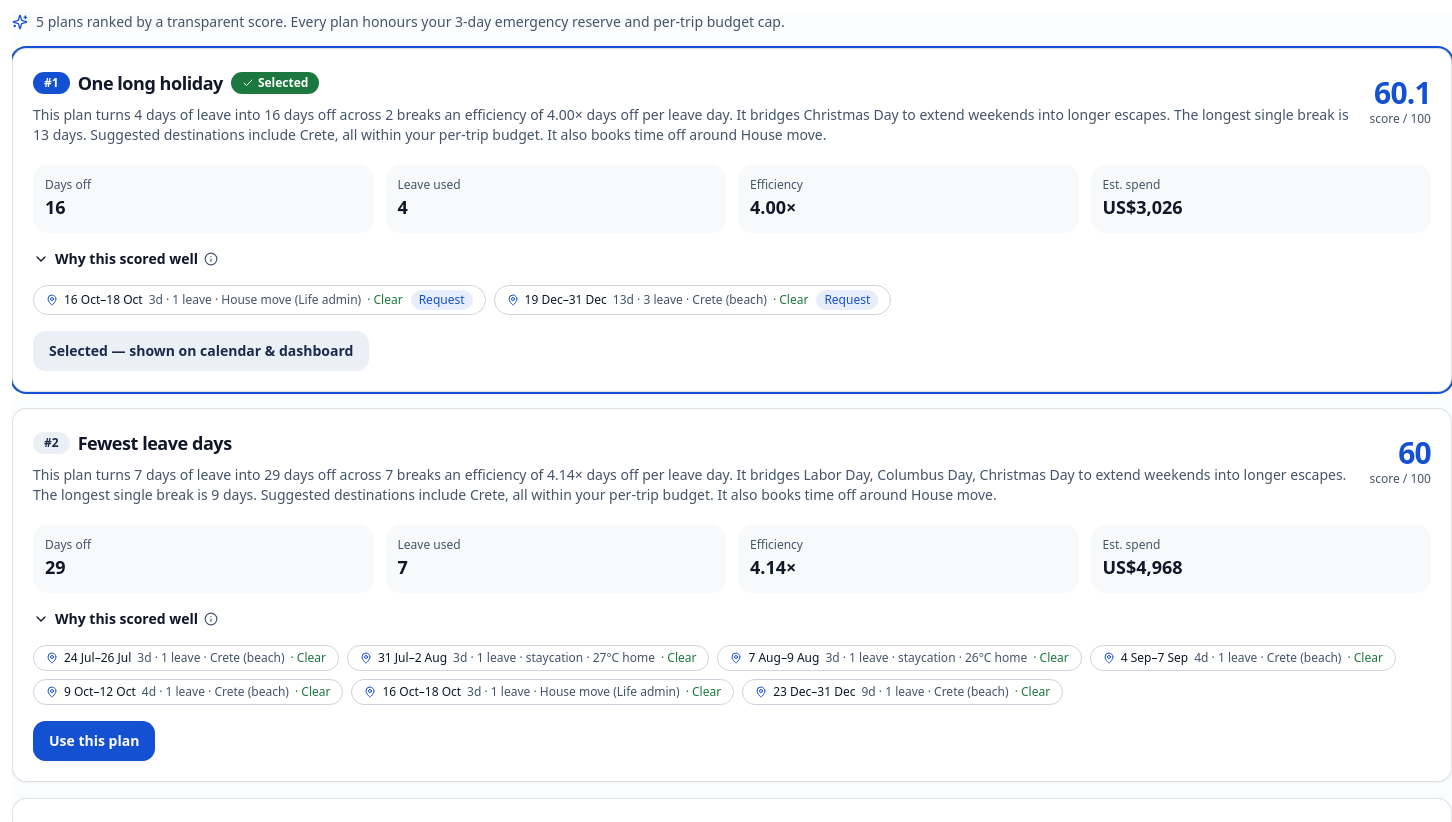
PlansView › lets the user select a different plan
Expected: the number of buttons "Selected — shown on calendar & dashboard" is 1, [33,331,369,371]
What coordinates should you click on to do the following:
click the button "Use this plan"
I would click on:
 (94, 741)
Its box is [33,721,155,761].
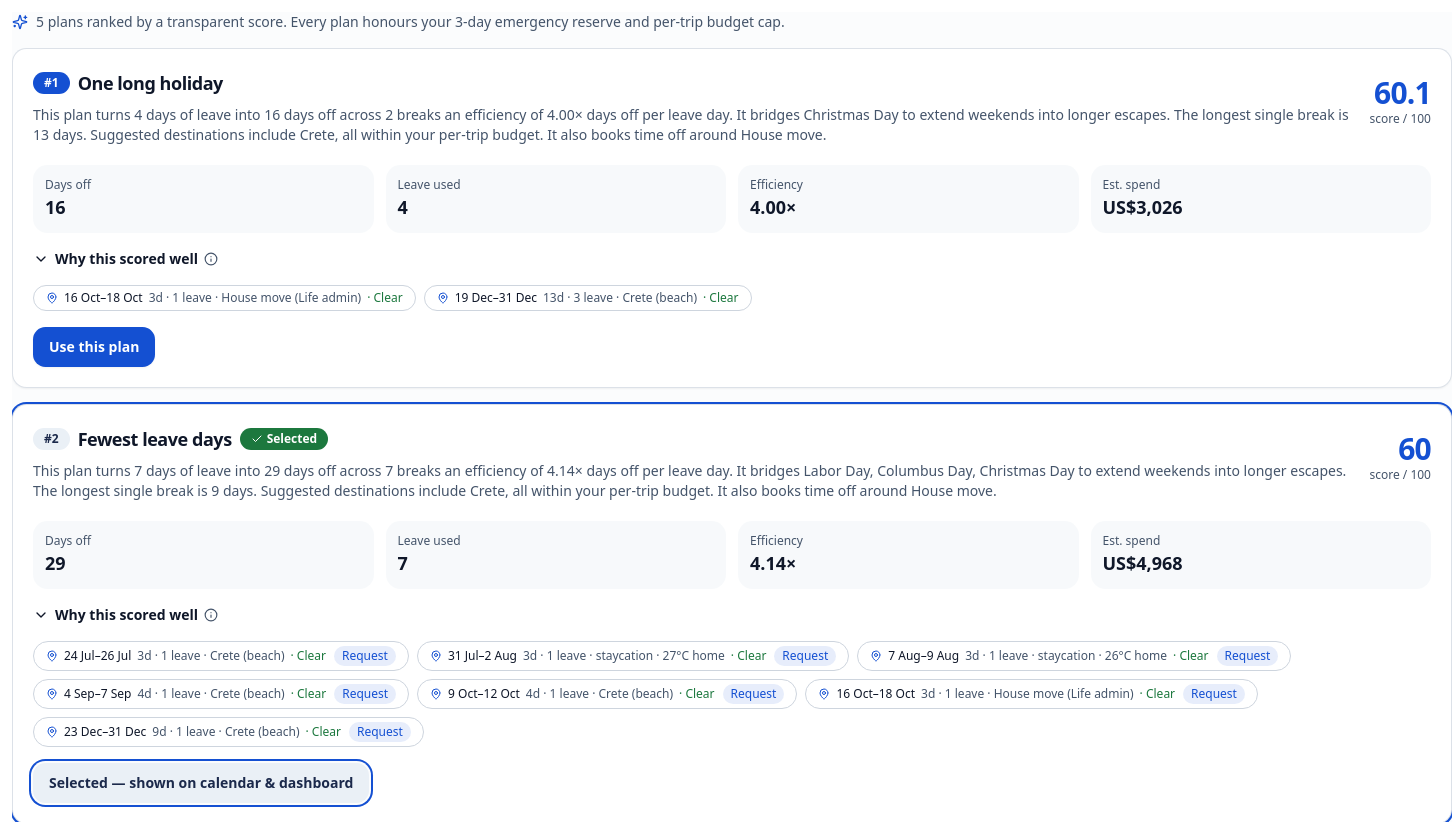
Now the button "Selected — shown on calendar & dashboard" is shown, box [33,763,369,803]
